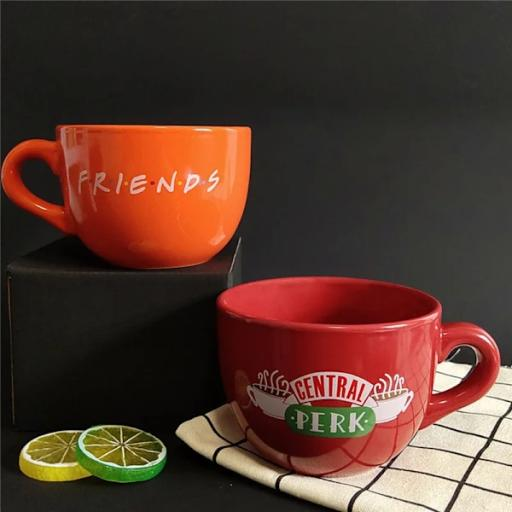phone: (217, 277, 501, 477)
